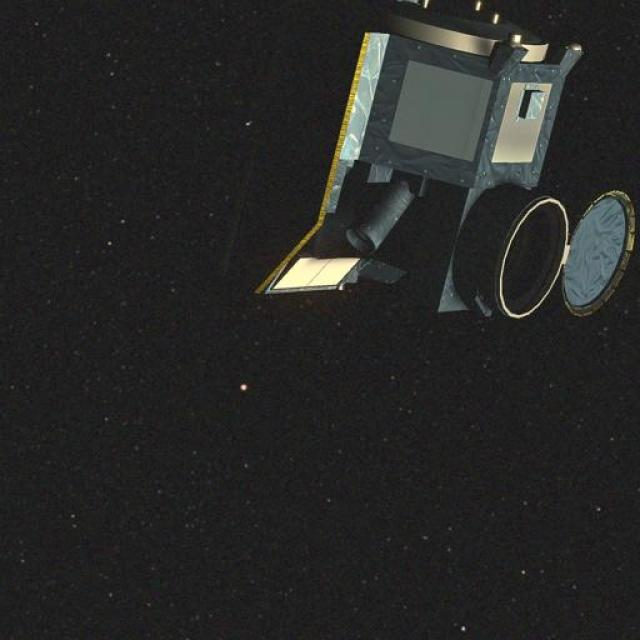cheops: (245, 0, 640, 352)
